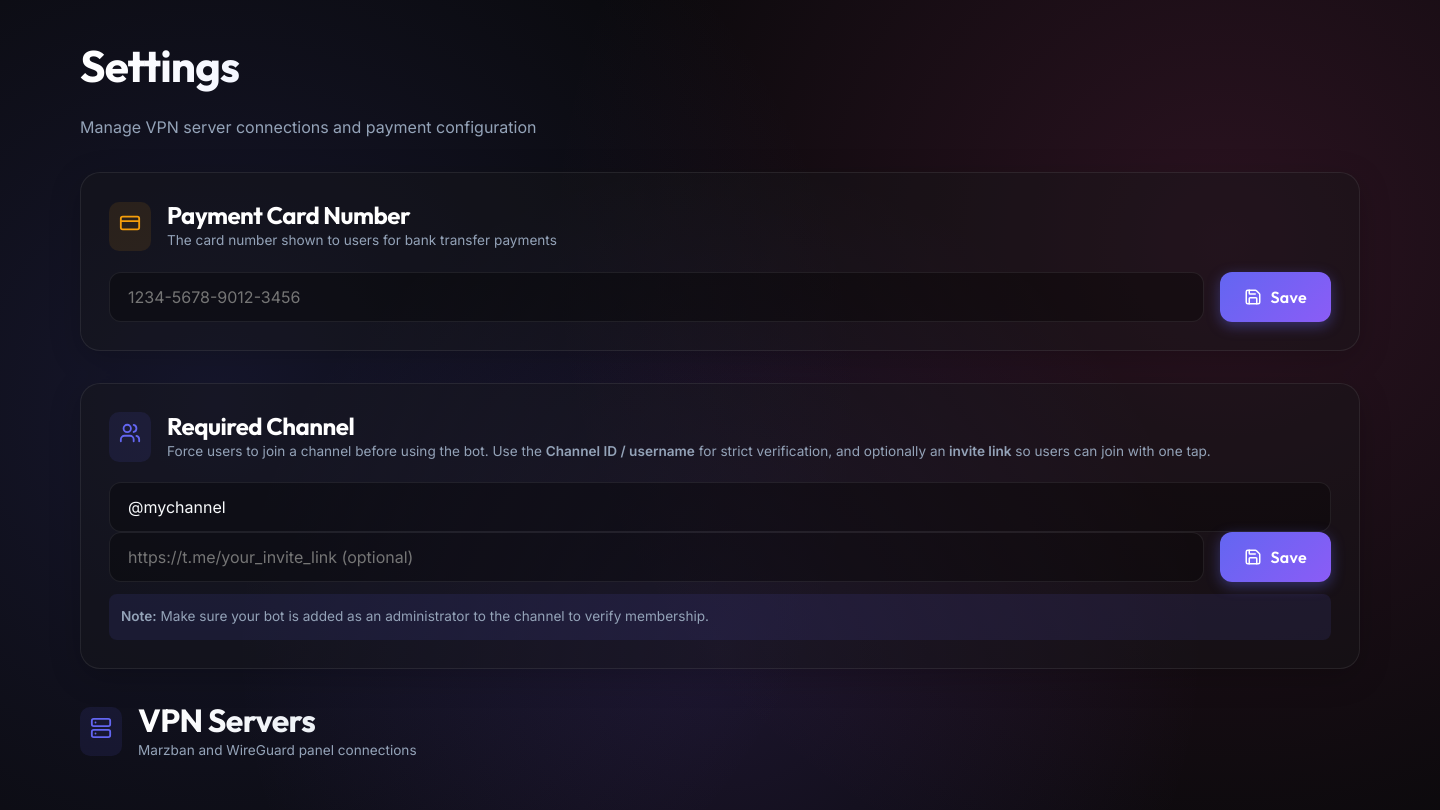
Settings › disables channel requirement when cleared
The image size is (1440, 810).
Clear the field showing "@mychannel". click: (720, 508)
box: [109,482,1331,532]
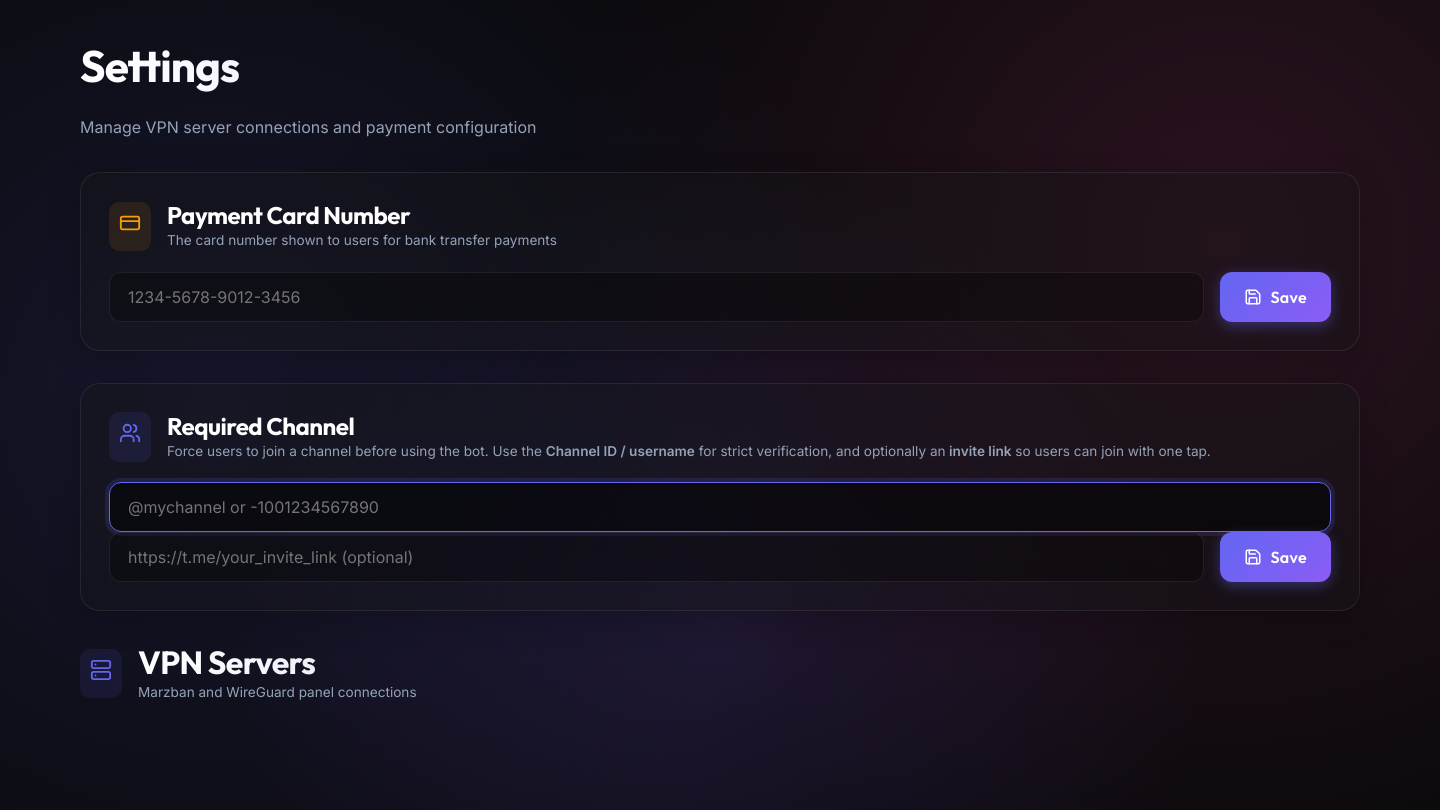
Click the button "Save" below "invite link". click: (1276, 558)
box: [1220,532,1331,582]
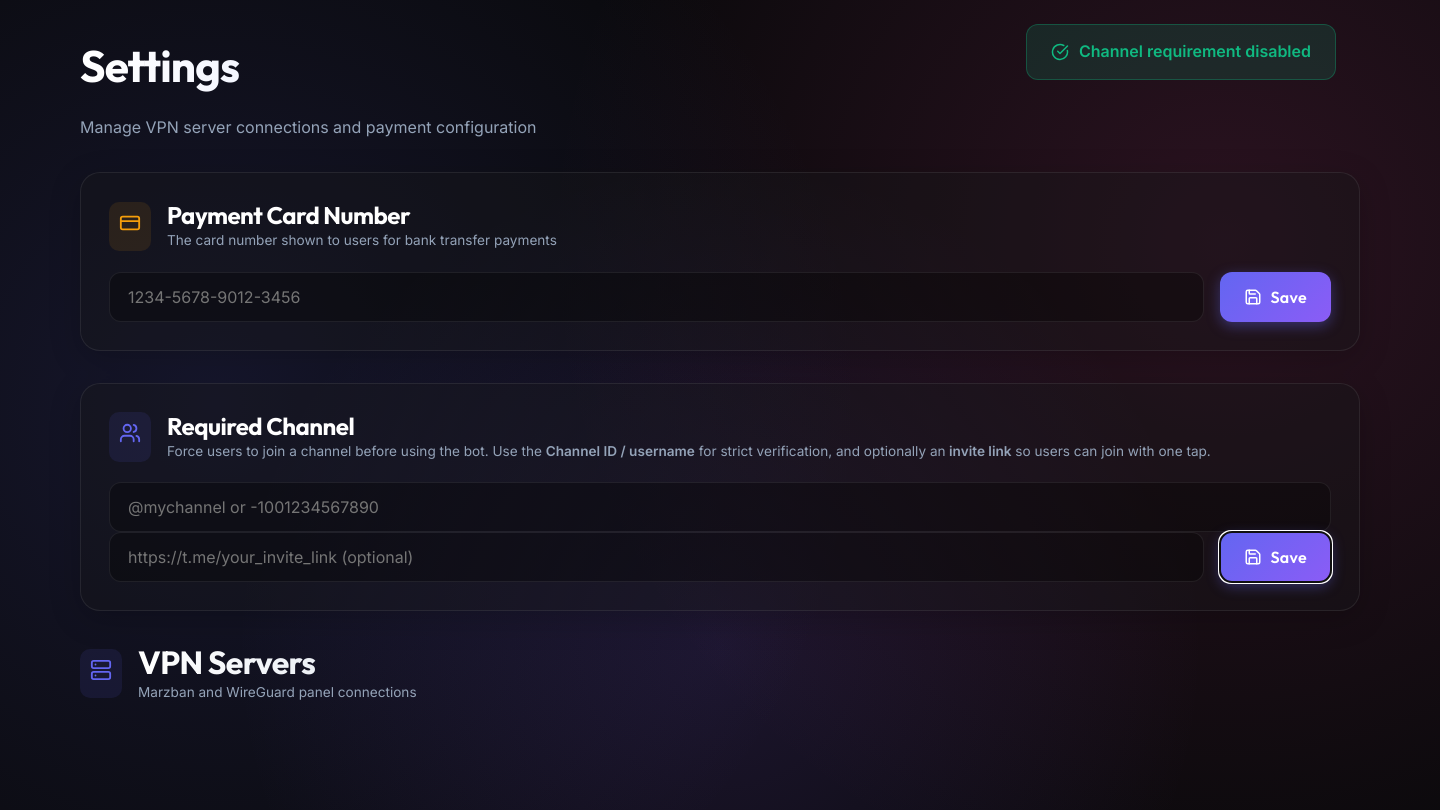
Now the text "Channel requirement disabled" is shown, box [1026,24,1336,80]
